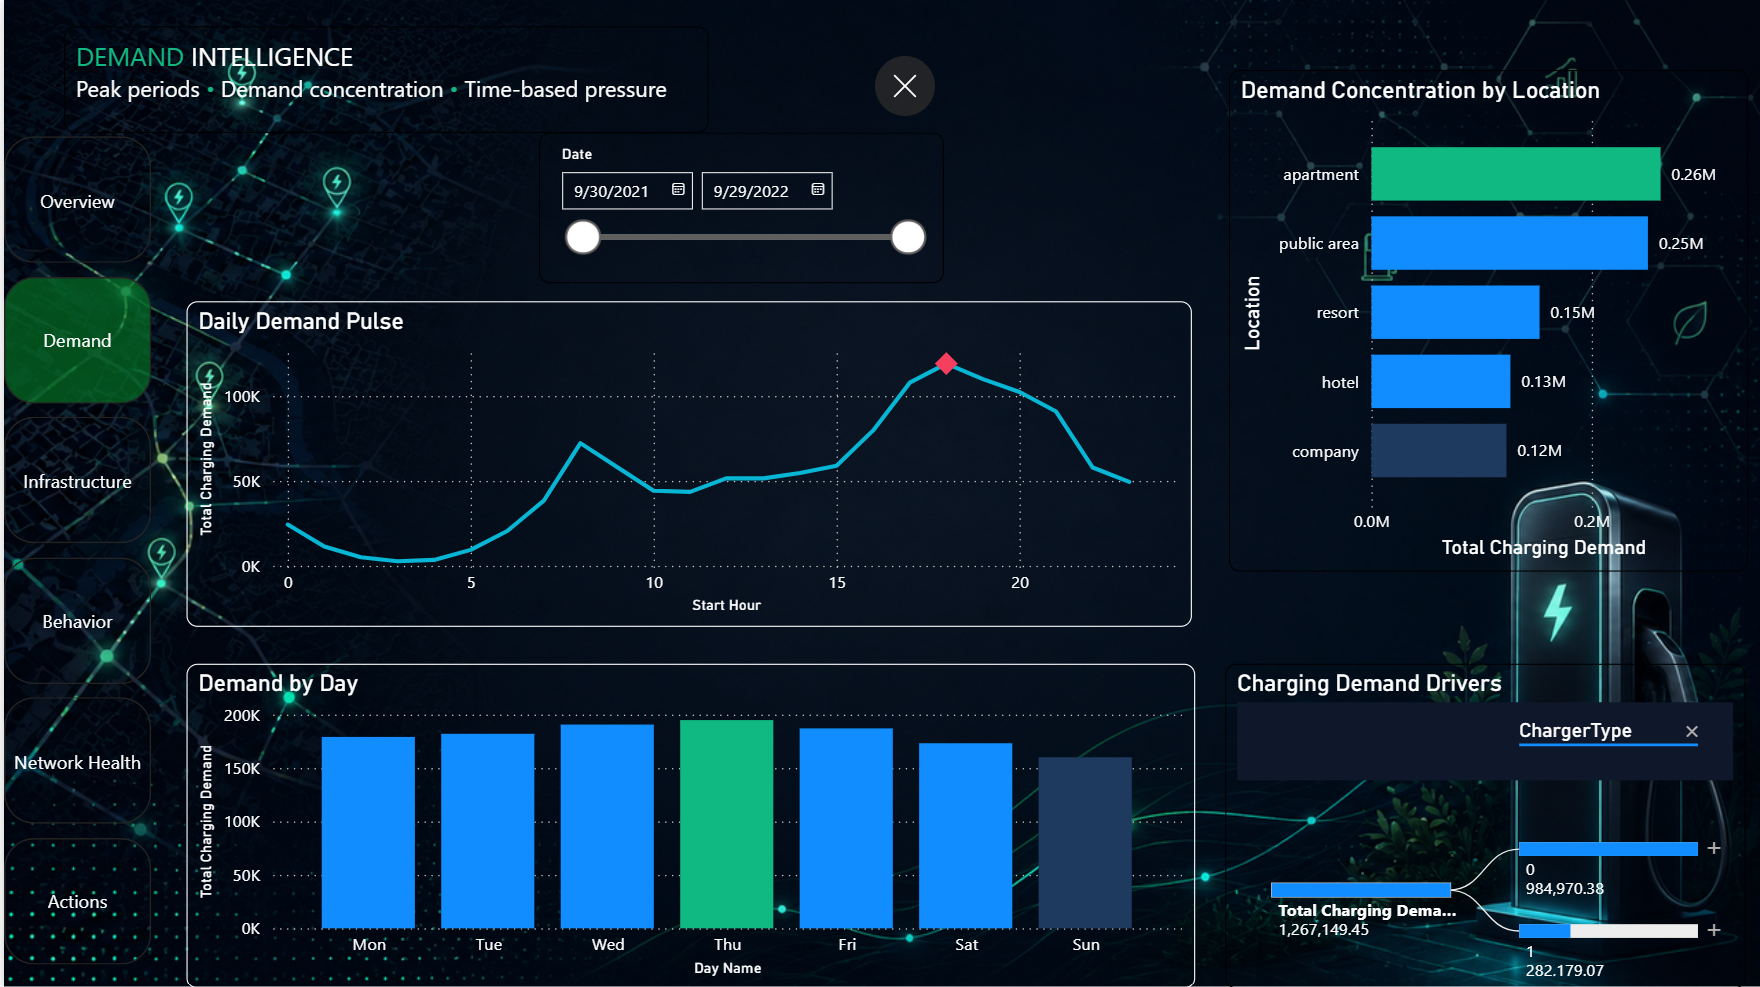

What the dashboard file says about the page in this screenshot:
{"tool":"powerbi","page":{"name":"Demand","canvas":[1280,720],"ordinal":1},"visuals":[{"type":"textbox","box":[43.3,18.8,468.9,77.9],"z":0},{"type":"lineChart","title":"Daily Demand Pulse","fields":{"Category":["Fact_Charging_Records.Start Hour"],"Y":["Calculation_tbl.Total Charging Demand"]},"box":[132.7,219.2,731.5,236.4],"z":0,"group":"g1"},{"type":"pageNavigator","box":[0,99.4,107.9,604.7],"z":1000},{"type":"clusteredColumnChart","title":"Demand by Day","fields":{"Category":["Dim_Date.Day Name"],"Y":["Calculation_tbl.Total Charging Demand"]},"box":[132.7,483.1,733.2,236.4],"z":1000,"group":"g1"},{"type":"group","id":"g1","title":"Group_Demand","box":[132.7,51,1136.2,668.5],"z":2000},{"type":"clusteredBarChart","title":"Demand Concentration by Location","fields":{"Category":["Fact_Charging_Records.Location"],"Y":["Calculation_tbl.Total Charging Demand"]},"box":[890.9,51,377.9,364.7],"z":2000,"group":"g1"},{"type":"decompositionTreeVisual","title":"Charging Demand Drivers","fields":{"Analyze":["Calculation_tbl.Total Charging Demand"],"ExplainBy":["Dim_Charger.ChargerCompany","Fact_Charging_Records.Location","Dim_Date.Day Name","Fact_Charging_Records.Start Hour","Dim_Charger.ChargerType"]},"box":[888.2,483.1,378.6,236.4],"z":3000,"group":"g1"},{"type":"slicer","fields":{"Values":["Dim_Date.Date"]},"box":[389.2,96.2,294.3,109.6],"z":4000,"group":"g1"}]}

Visuals, with their boxes in screenshot pixels (x1, y1, x2, y2), scaled from the page's 1280x720 canvas onto the 1760x987 screenshot:
textbox: select_region(60, 26, 704, 133)
"Daily Demand Pulse" lineChart: select_region(182, 300, 1188, 625)
pageNavigator: select_region(0, 136, 148, 965)
"Demand by Day" clusteredColumnChart: select_region(182, 662, 1191, 986)
"Group_Demand" group: select_region(182, 70, 1745, 986)
"Demand Concentration by Location" clusteredBarChart: select_region(1225, 70, 1745, 570)
"Charging Demand Drivers" decompositionTreeVisual: select_region(1221, 662, 1742, 986)
slicer - Dim_Date.Date: select_region(535, 132, 940, 282)
